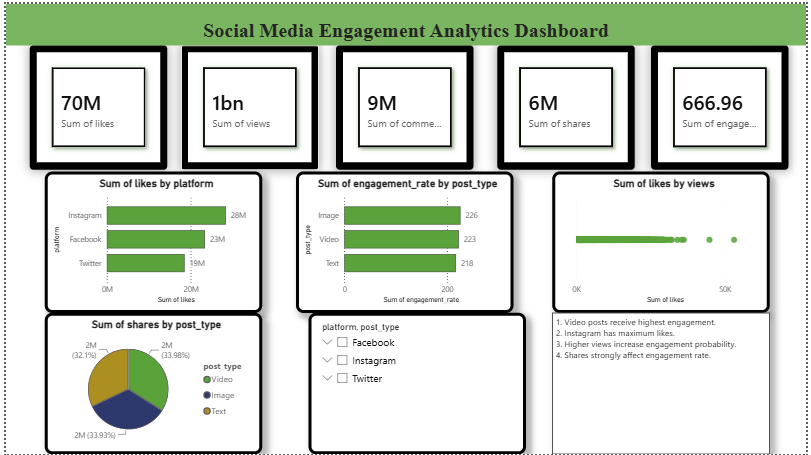

What the dashboard file says about the page in this screenshot:
{"tool":"powerbi","page":{"name":"Page 1","canvas":[1280,720],"ordinal":0},"visuals":[{"type":"cardVisual","fields":{"Data":["Sum(social_media_engagement_dataset.likes)"]},"box":[38.5,66.3,220.3,198.9],"z":0},{"type":"cardVisual","fields":{"Data":["Sum(social_media_engagement_dataset.views)"]},"box":[280.2,66.3,220.3,198.9],"z":1000},{"type":"cardVisual","fields":{"Data":["Sum(social_media_engagement_dataset.comments)"]},"box":[528.4,66.3,220.3,198.9],"z":2000},{"type":"cardVisual","fields":{"Data":["Sum(social_media_engagement_dataset.shares)"]},"box":[785,66.3,220.3,198.9],"z":3000},{"type":"cardVisual","fields":{"Data":["Sum(social_media_engagement_dataset.engagement_rate)"]},"box":[1031,66.3,220.3,198.9],"z":4000},{"type":"clusteredBarChart","fields":{"Category":["social_media_engagement_dataset.platform"],"Y":["Sum(social_media_engagement_dataset.likes)"]},"box":[62,268,348,226],"z":5000},{"type":"clusteredBarChart","fields":{"Category":["social_media_engagement_dataset.post_type"],"Y":["Sum(social_media_engagement_dataset.engagement_rate)"]},"box":[464,268,348,226],"z":6000},{"type":"scatterChart","fields":{"Category":["social_media_engagement_dataset.views"],"X":["Sum(social_media_engagement_dataset.likes)"]},"box":[874,268,348,226],"z":7000},{"type":"pieChart","fields":{"Category":["social_media_engagement_dataset.post_type"],"Y":["Sum(social_media_engagement_dataset.shares)"]},"box":[62,494,348,226],"z":8000},{"type":"slicer","fields":{"Values":["social_media_engagement_dataset.platform","social_media_engagement_dataset.post_type"]},"box":[484,494,348,226],"z":9000},{"type":"textbox","box":[874,494,348,226],"z":10000},{"type":"textbox","box":[0,0,1280,66],"z":11000}]}

Visuals, with their boxes in screenshot pixels (x1, y1, x2, y2), scaled from the page's 1280x720 canvas onto the 811x455 screenshot:
cardVisual - Sum(social_media_engagement_dataset.likes): region(24, 42, 164, 168)
cardVisual - Sum(social_media_engagement_dataset.views): region(178, 42, 317, 168)
cardVisual - Sum(social_media_engagement_dataset.comments): region(335, 42, 474, 168)
cardVisual - Sum(social_media_engagement_dataset.shares): region(497, 42, 637, 168)
cardVisual - Sum(social_media_engagement_dataset.engagement_rate): region(653, 42, 793, 168)
clusteredBarChart - social_media_engagement_dataset.platform x Sum(social_media_engagement_dataset.likes): region(39, 169, 260, 312)
clusteredBarChart - social_media_engagement_dataset.post_type x Sum(social_media_engagement_dataset.engagement_rate): region(294, 169, 514, 312)
scatterChart - social_media_engagement_dataset.views x Sum(social_media_engagement_dataset.likes): region(554, 169, 774, 312)
pieChart - social_media_engagement_dataset.post_type x Sum(social_media_engagement_dataset.shares): region(39, 312, 260, 454)
slicer - social_media_engagement_dataset.platform x social_media_engagement_dataset.post_type: region(307, 312, 527, 454)
textbox: region(554, 312, 774, 454)
textbox: region(0, 0, 810, 42)
